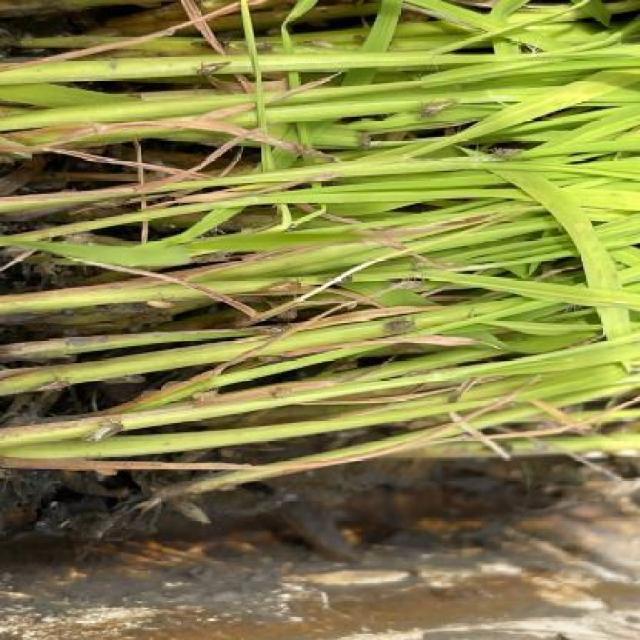wereng pada daun padi: (74, 403, 140, 448), (474, 138, 547, 177), (183, 378, 240, 421), (258, 286, 307, 335), (410, 92, 474, 129), (377, 307, 429, 352), (189, 55, 254, 89)
